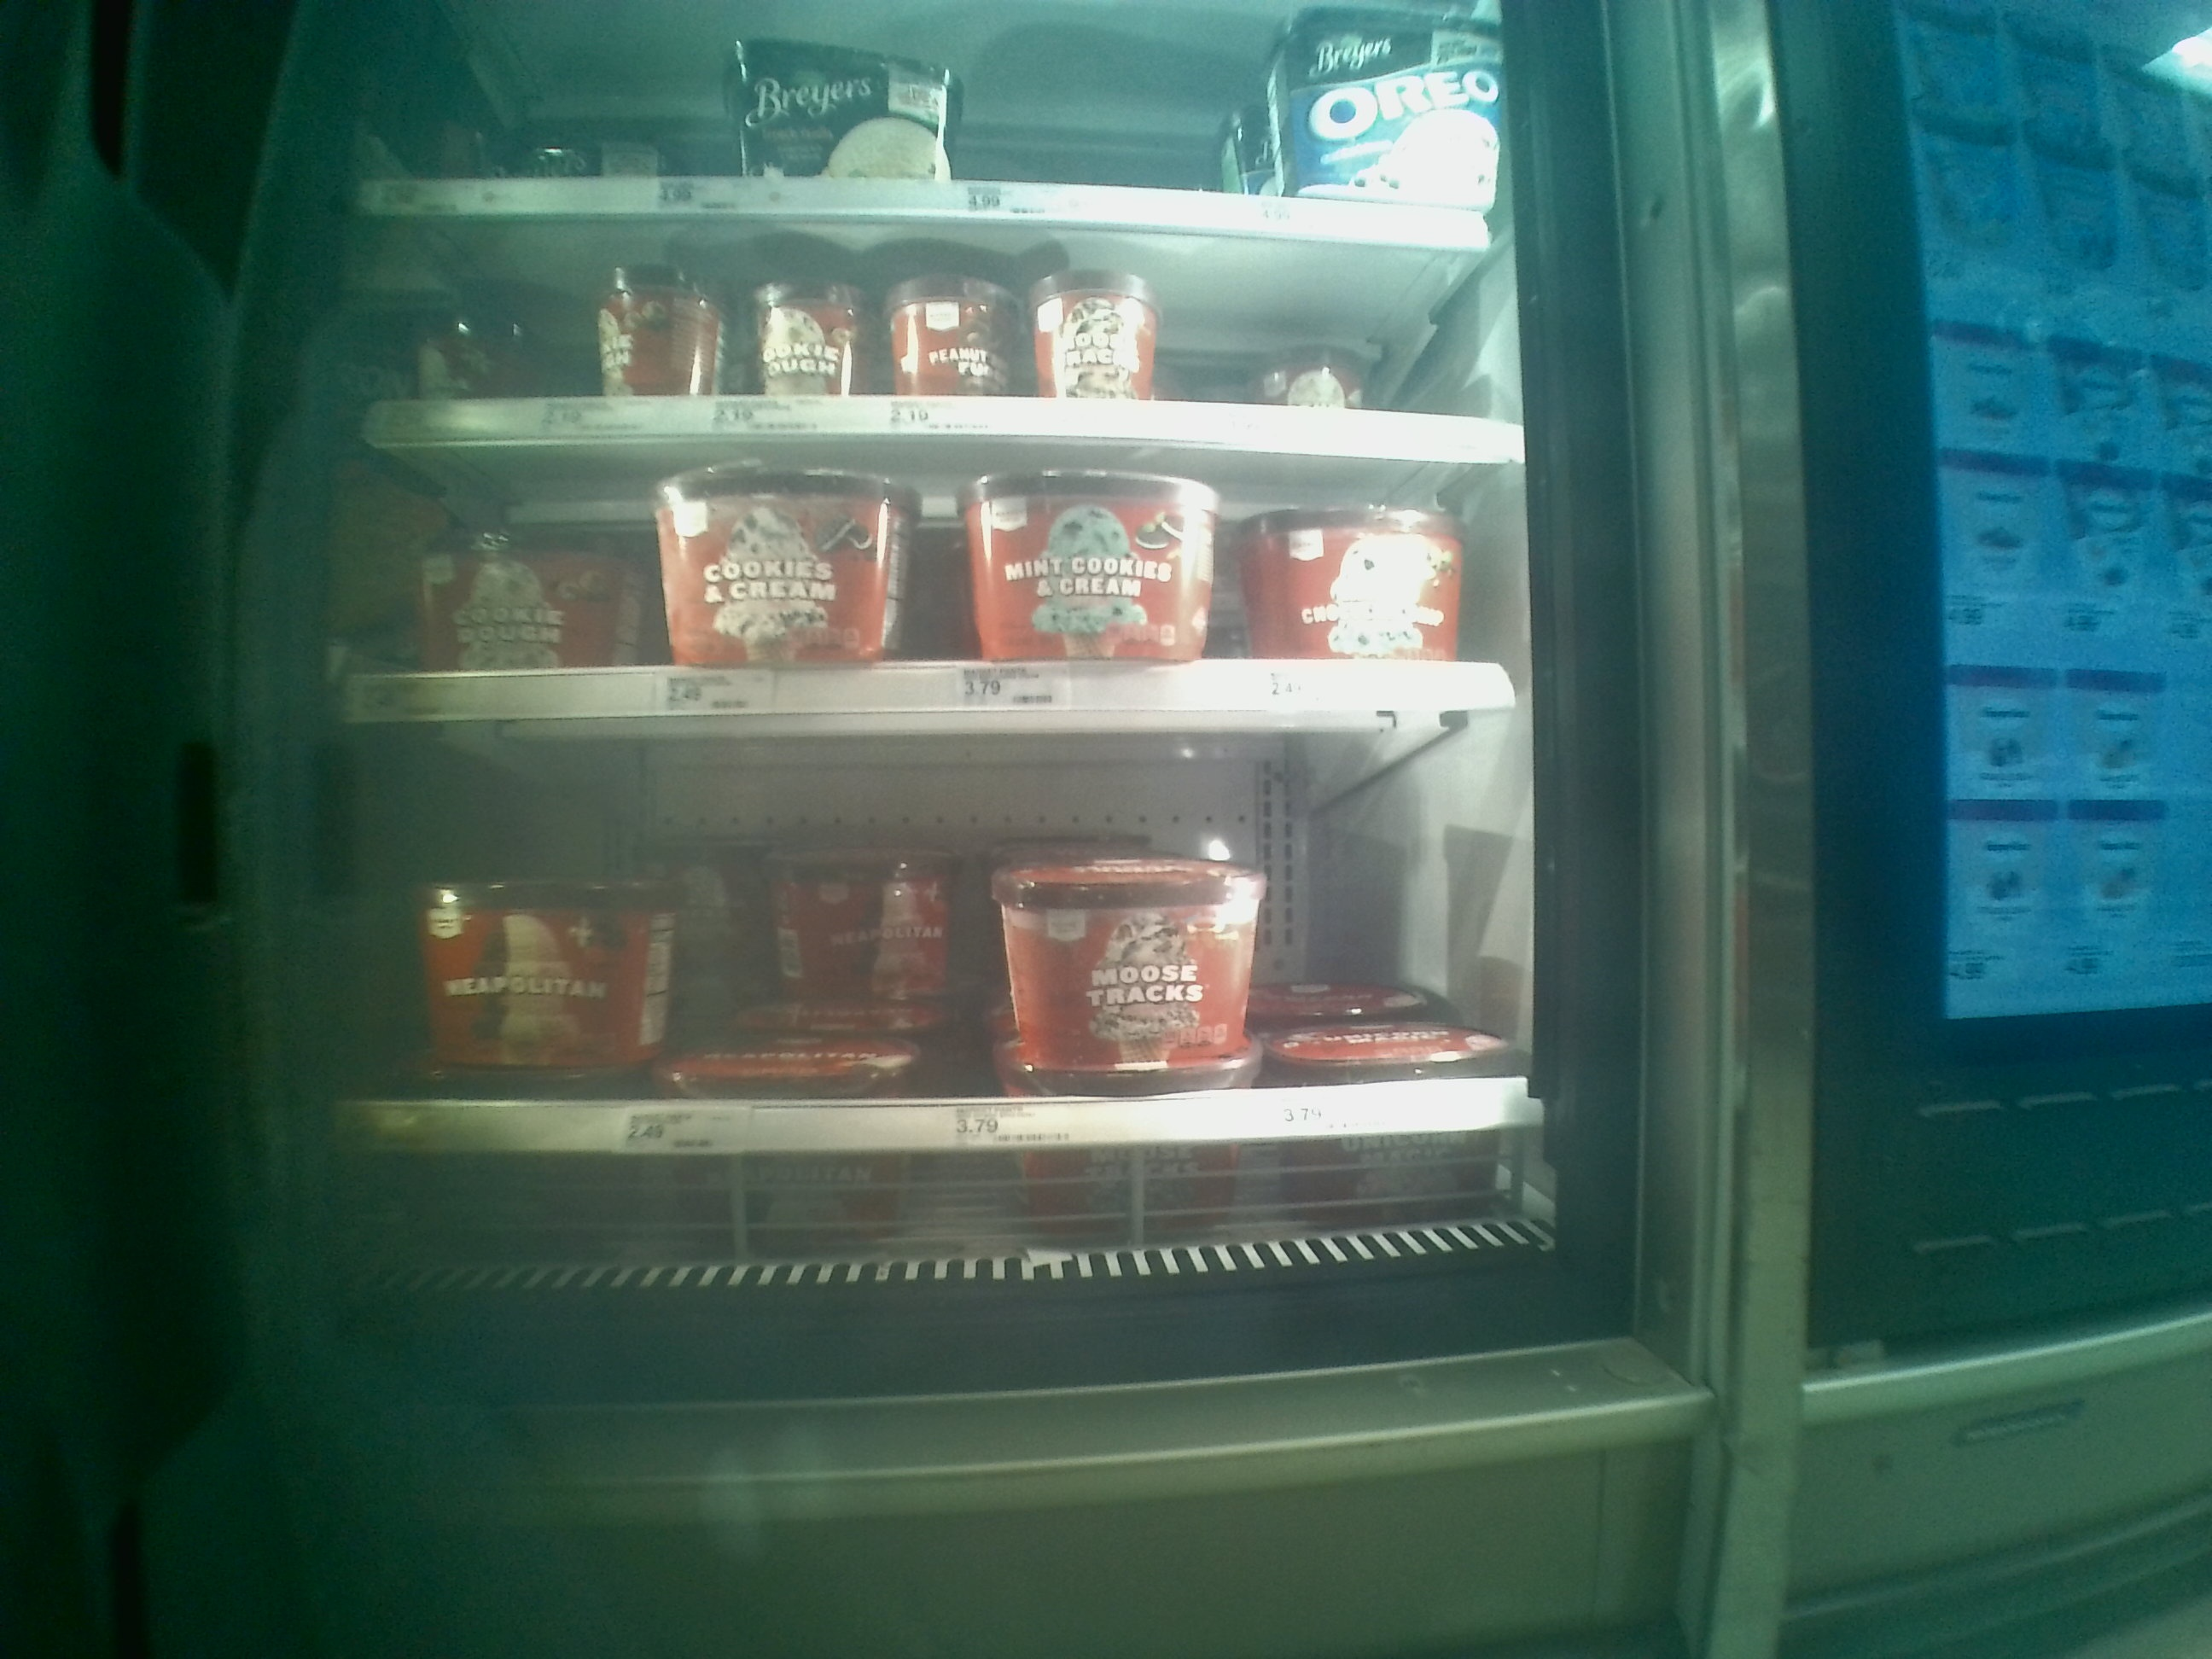ice-cream-shelf: (350, 762, 1536, 1148), (340, 476, 1503, 756), (352, 230, 1515, 474)
